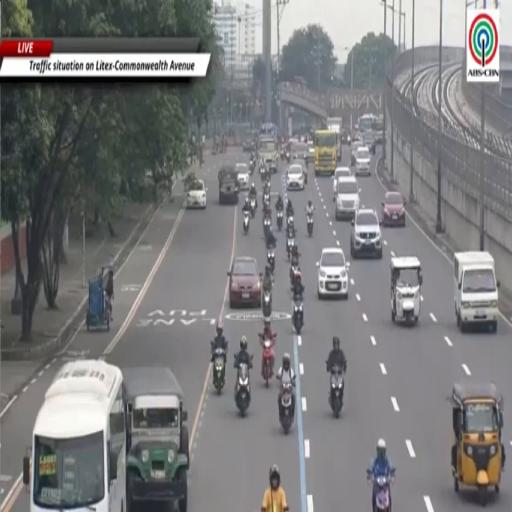bus: (23, 360, 126, 511), (358, 115, 383, 133), (358, 115, 377, 133)
car: (115, 366, 190, 511), (228, 256, 261, 308), (317, 248, 348, 298), (351, 210, 382, 259), (335, 176, 360, 220), (382, 191, 405, 227), (333, 167, 351, 200), (187, 180, 207, 209), (286, 164, 305, 189), (355, 147, 371, 175), (291, 159, 307, 184), (236, 164, 249, 190), (291, 142, 308, 161), (351, 139, 362, 166), (304, 140, 314, 164), (363, 131, 374, 148), (243, 137, 254, 152)
motorcycle: (368, 472, 394, 511), (235, 363, 250, 417), (329, 366, 344, 418), (280, 381, 294, 434), (260, 335, 273, 388), (213, 348, 226, 394), (292, 296, 303, 333), (262, 291, 272, 317), (290, 262, 299, 286), (267, 249, 275, 274), (286, 238, 294, 260), (243, 212, 250, 234), (264, 217, 271, 235), (250, 197, 256, 217), (307, 216, 313, 236), (249, 158, 255, 175), (277, 211, 282, 231), (260, 166, 266, 181), (286, 216, 294, 227), (263, 192, 270, 204), (280, 150, 285, 161), (286, 151, 290, 163)
tricycle: (86, 264, 112, 330)
truck: (454, 251, 499, 332), (314, 130, 338, 176), (218, 167, 239, 204), (258, 135, 278, 173), (327, 118, 342, 161)
